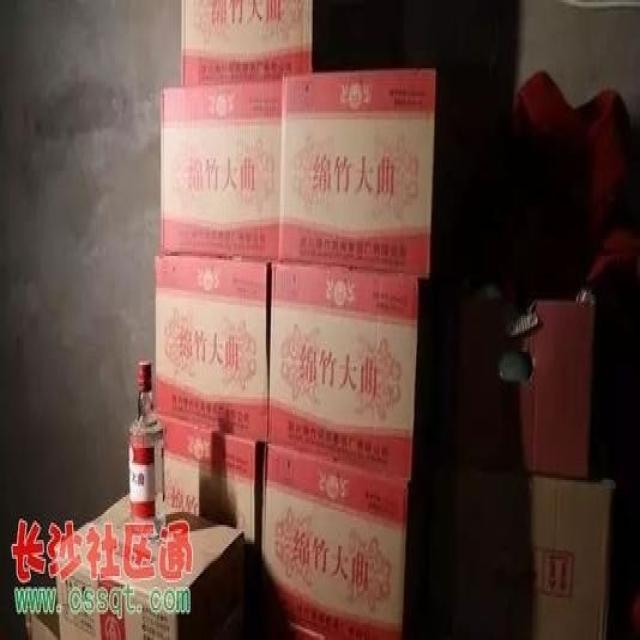box: (431, 457, 616, 640), (278, 68, 436, 279), (267, 262, 418, 482), (260, 442, 421, 640), (435, 297, 594, 480), (53, 493, 244, 640), (159, 79, 282, 262), (155, 252, 272, 442), (155, 412, 262, 550), (181, 2, 313, 85), (25, 602, 59, 640)
